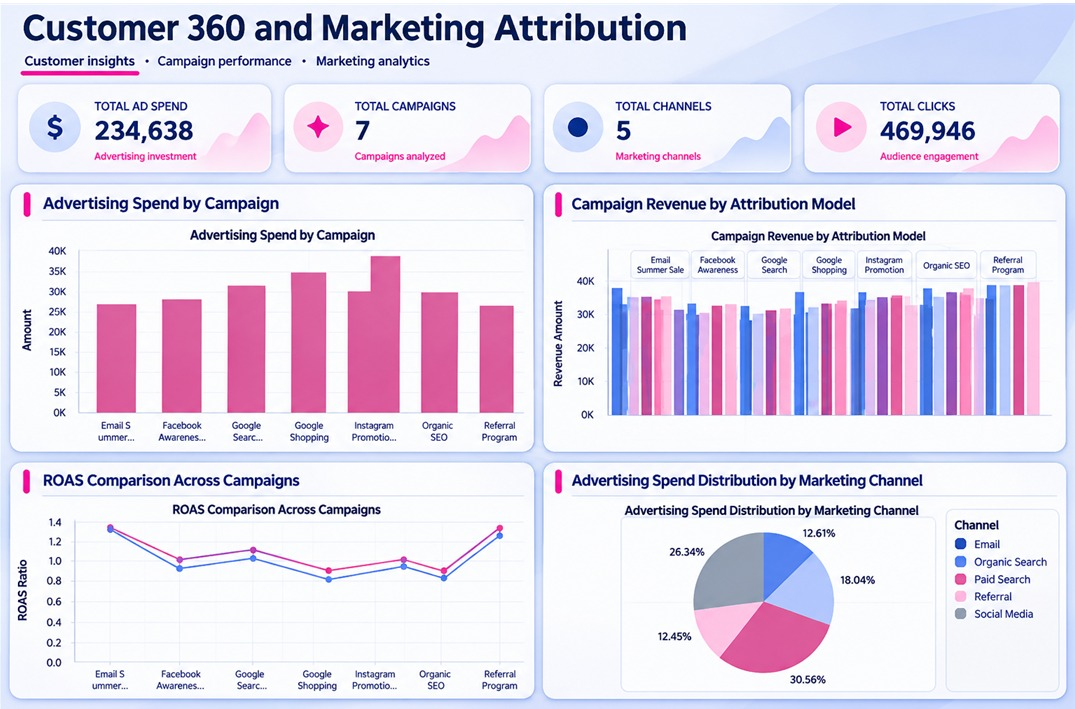

The page's visual inventory and layout, read from the dashboard file:
{"tool":"tableau","page":{"name":"Dashboard 2","canvas":[1100,800],"ordinal":0},"visuals":[{"type":"image","param":"C:/Users/admin/Downloads/Customer 360 Marketing Dashboard (4).png","box":[8,8,1084,784]}]}

Visuals, with their boxes on the page's 1100x800 design canvas (x1, y1, x2, y2). These are canvas units, not pixel positions in the 1075x709 screenshot, which may show the page scaled, cropped or inside an application window:
image: pyautogui.locateOnScreen(8, 8, 1092, 792)
